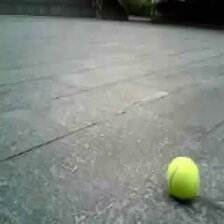tennis: (168, 158, 199, 195)
